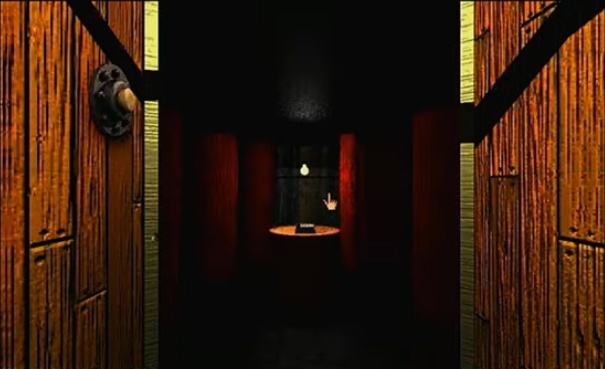Pointer: (320, 189, 341, 212)
